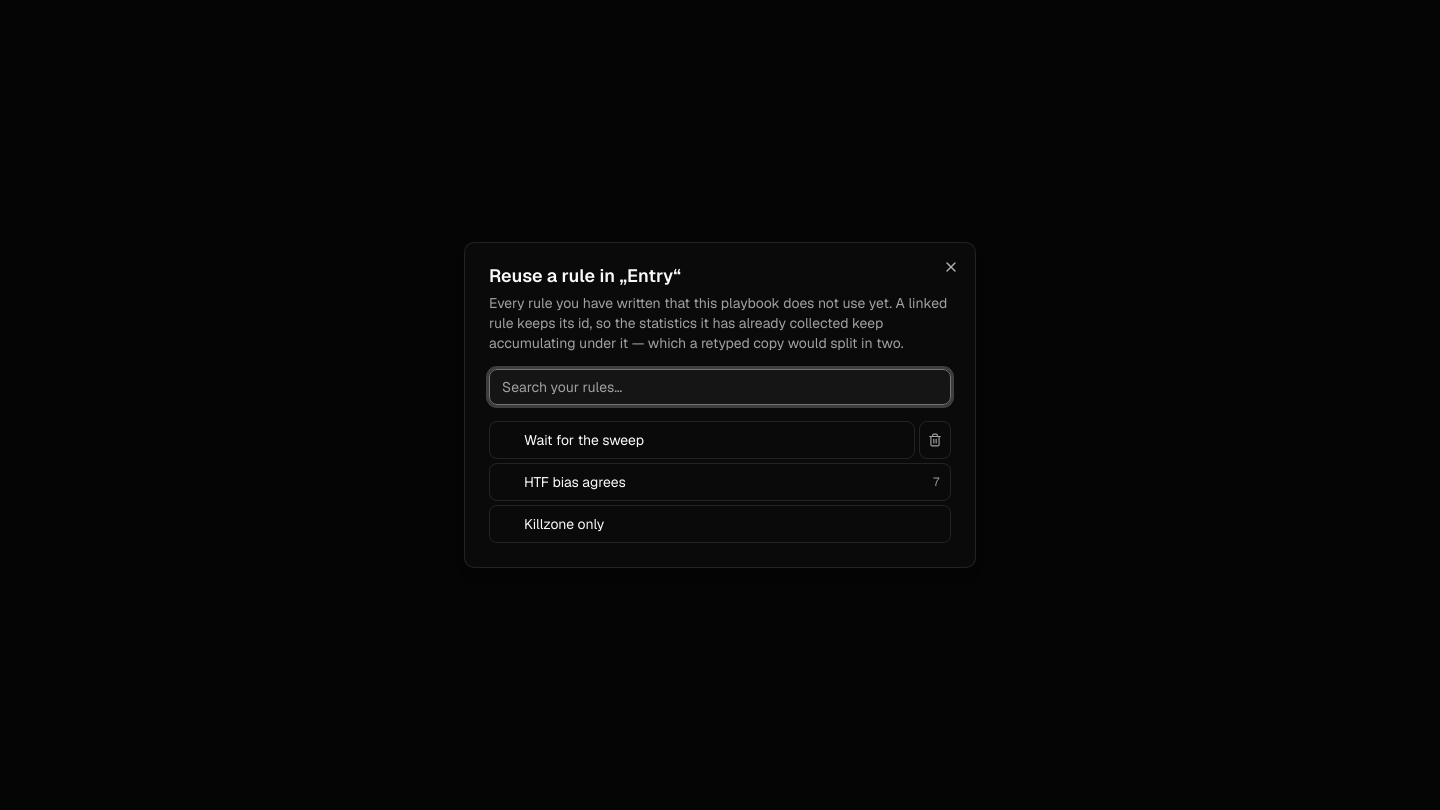
Test: RuleLibraryDialog — deleting unused rules › asks once more, then deletes and drops the row
The width and height of the screenshot is (1440, 810).
Click the button named "Delete rule: Wait for the sweep" at (935, 440), box [919,421,951,459]
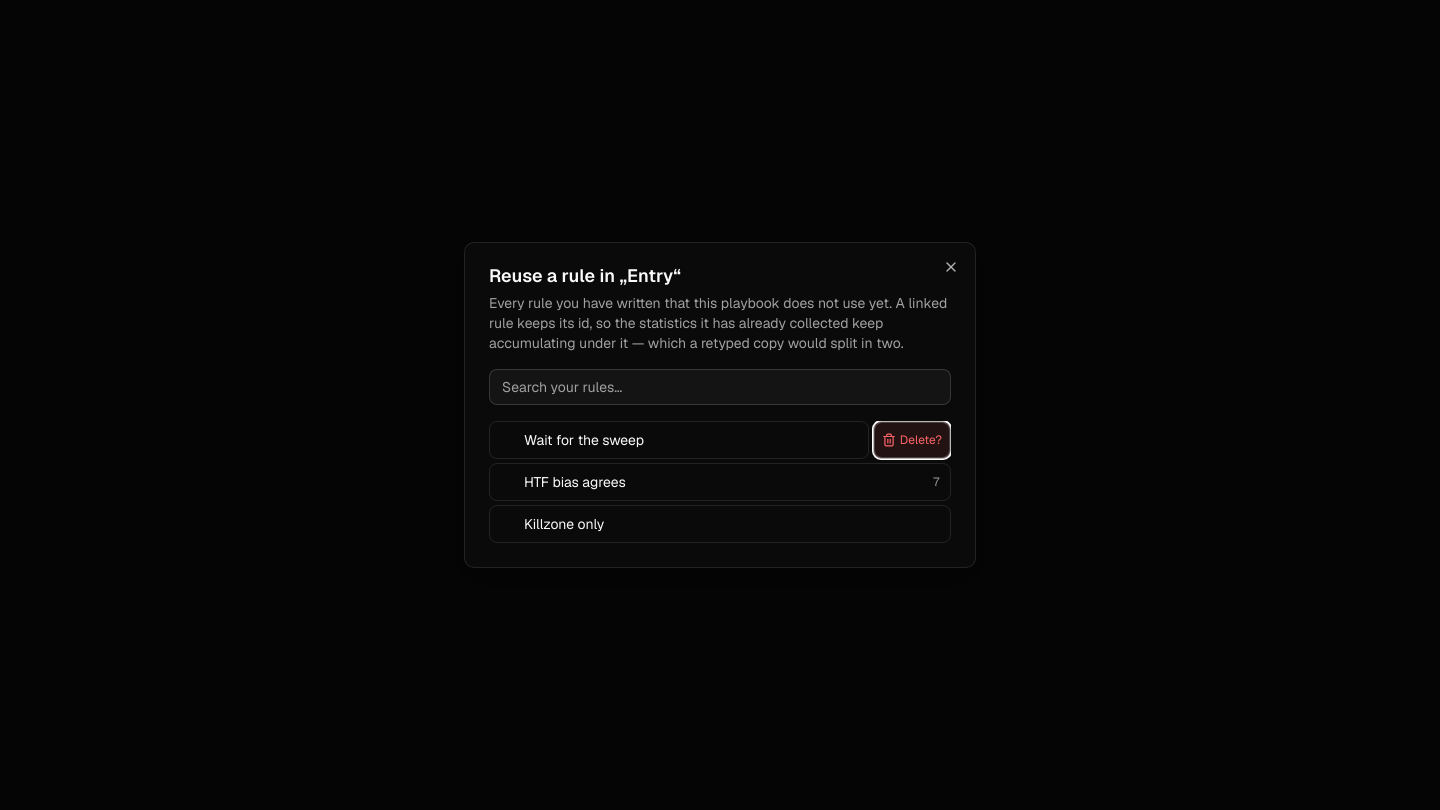
Click the button with aria-label "Confirm delete: Wait for the sweep" at (912, 440), box [873,421,951,459]
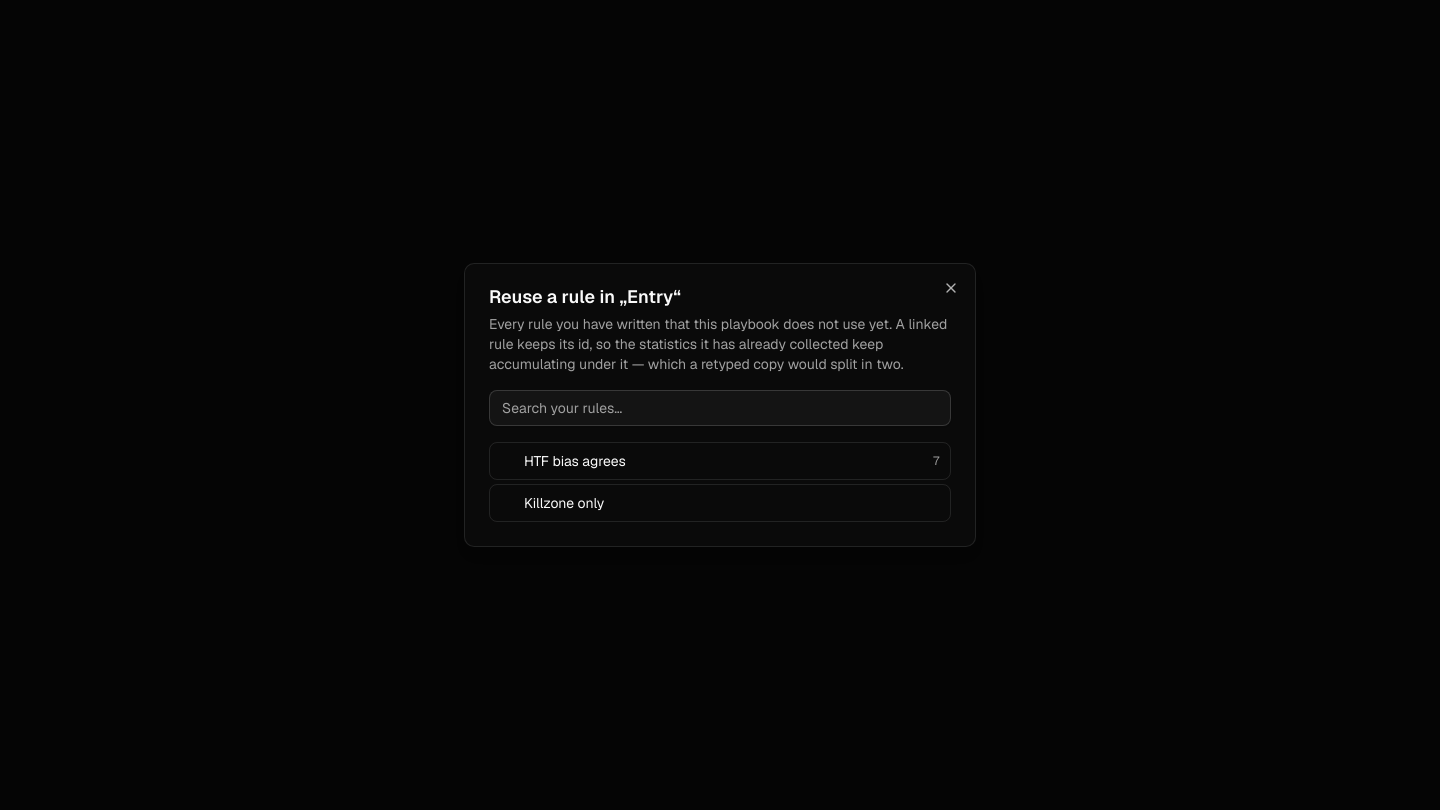
Check: the option "Wait for the sweep" is gone
